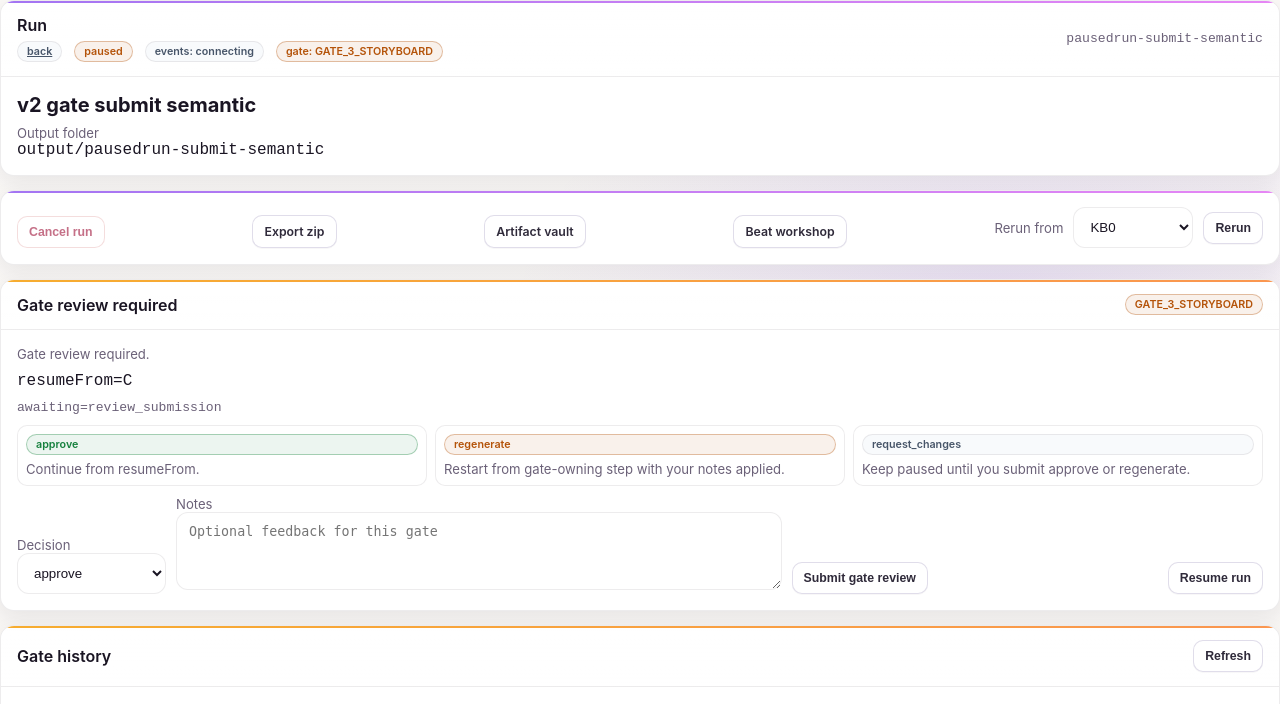
Test case: RunViewer › shows semantic gate guidance when gate review submit is rejected
Click the button "Submit gate review": (860,578) [792, 562, 928, 594]
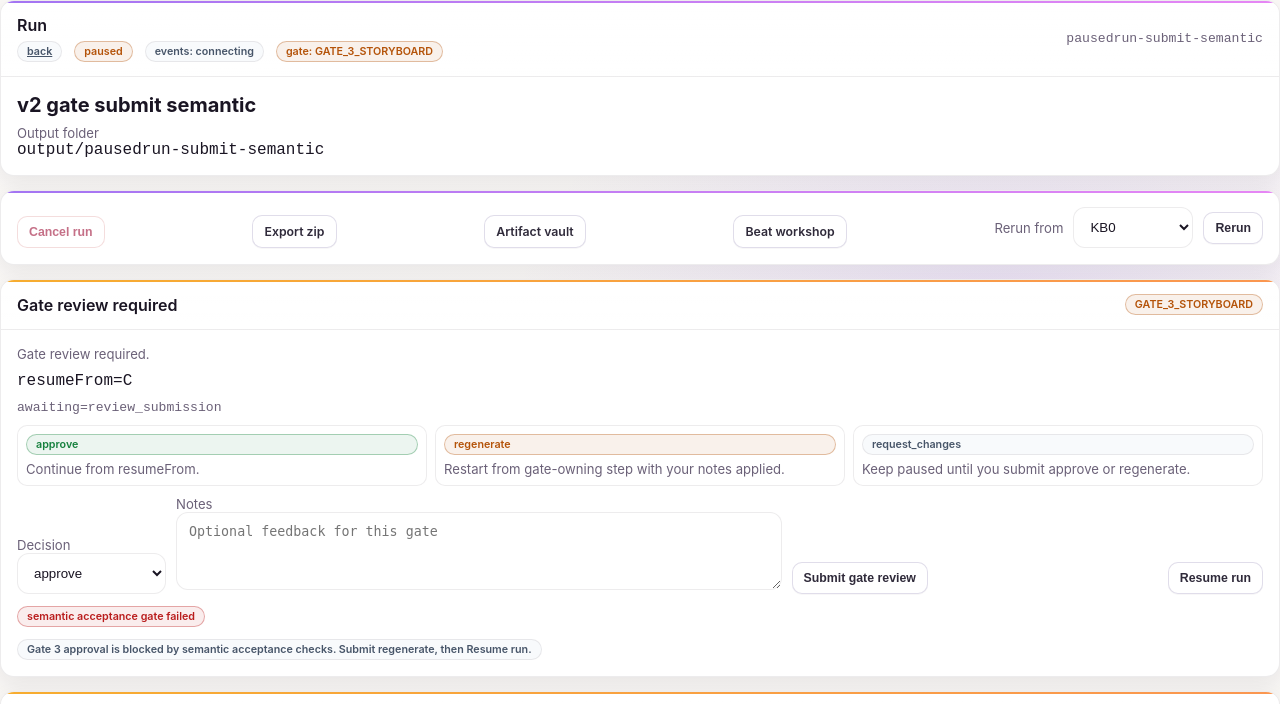
Check: the text "Gate 3 approval is blocked by semantic acceptance checks. Submit regenerate, then Resume run." is shown, box [27, 643, 532, 656]
